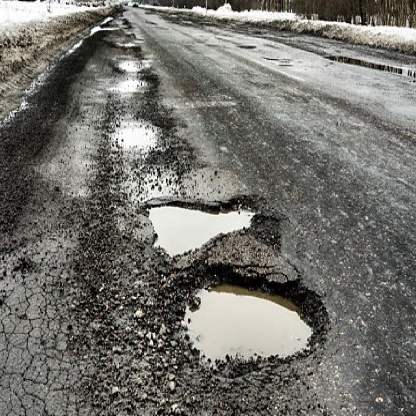pothole: (148, 263, 337, 381), (120, 182, 285, 271), (92, 97, 180, 168), (100, 52, 157, 100)
